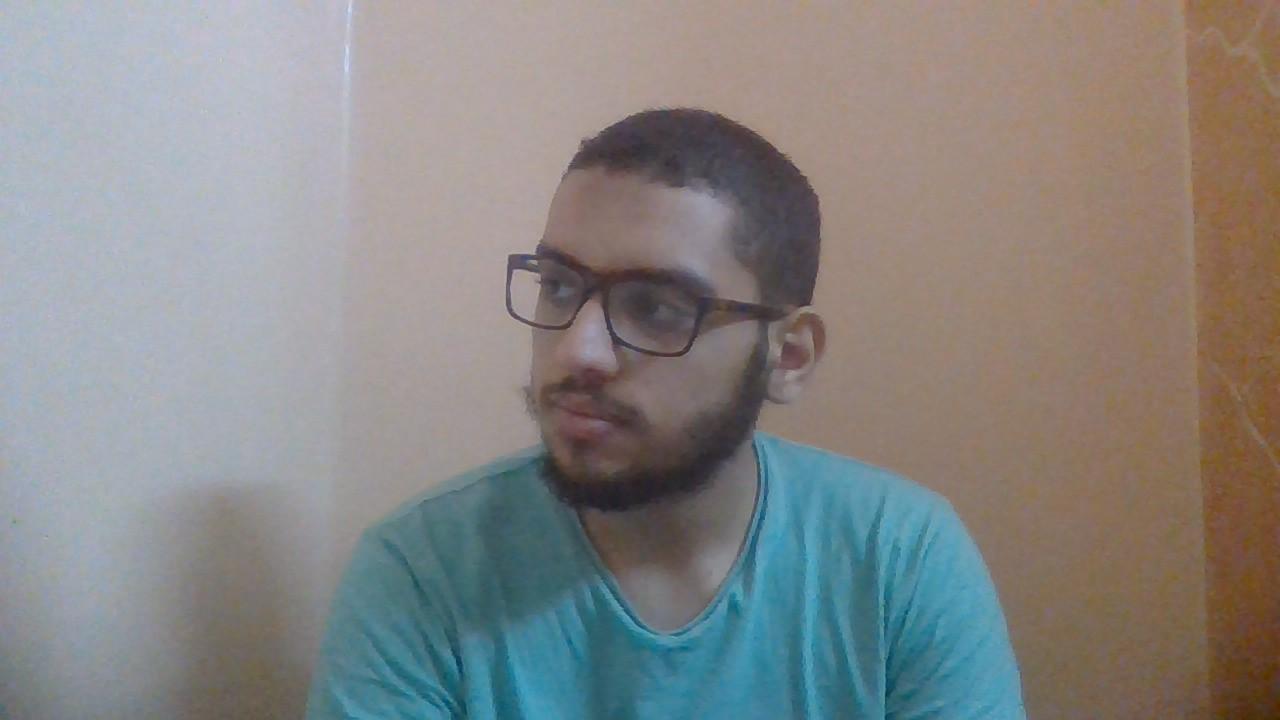Nomask: (527, 314, 770, 497)
